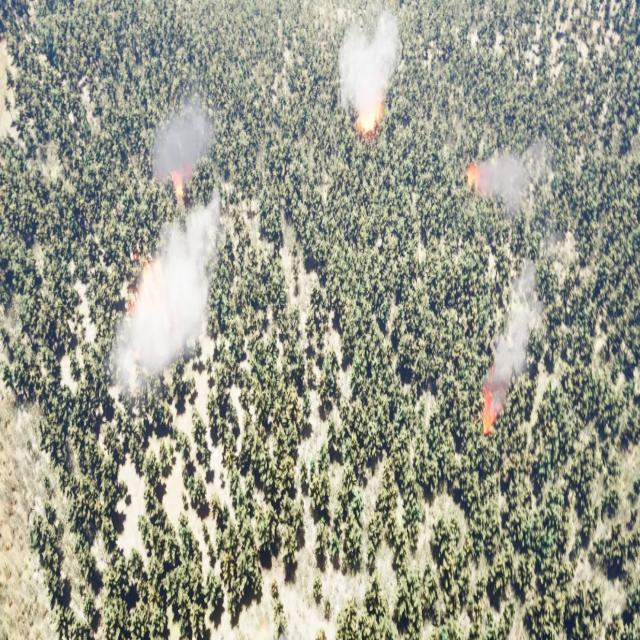fire: (479, 387, 498, 435), (167, 169, 190, 208), (356, 104, 382, 137), (465, 164, 482, 192)
smoke: (110, 203, 220, 387), (481, 258, 542, 404), (338, 10, 402, 116), (152, 107, 212, 200), (486, 137, 548, 219)
